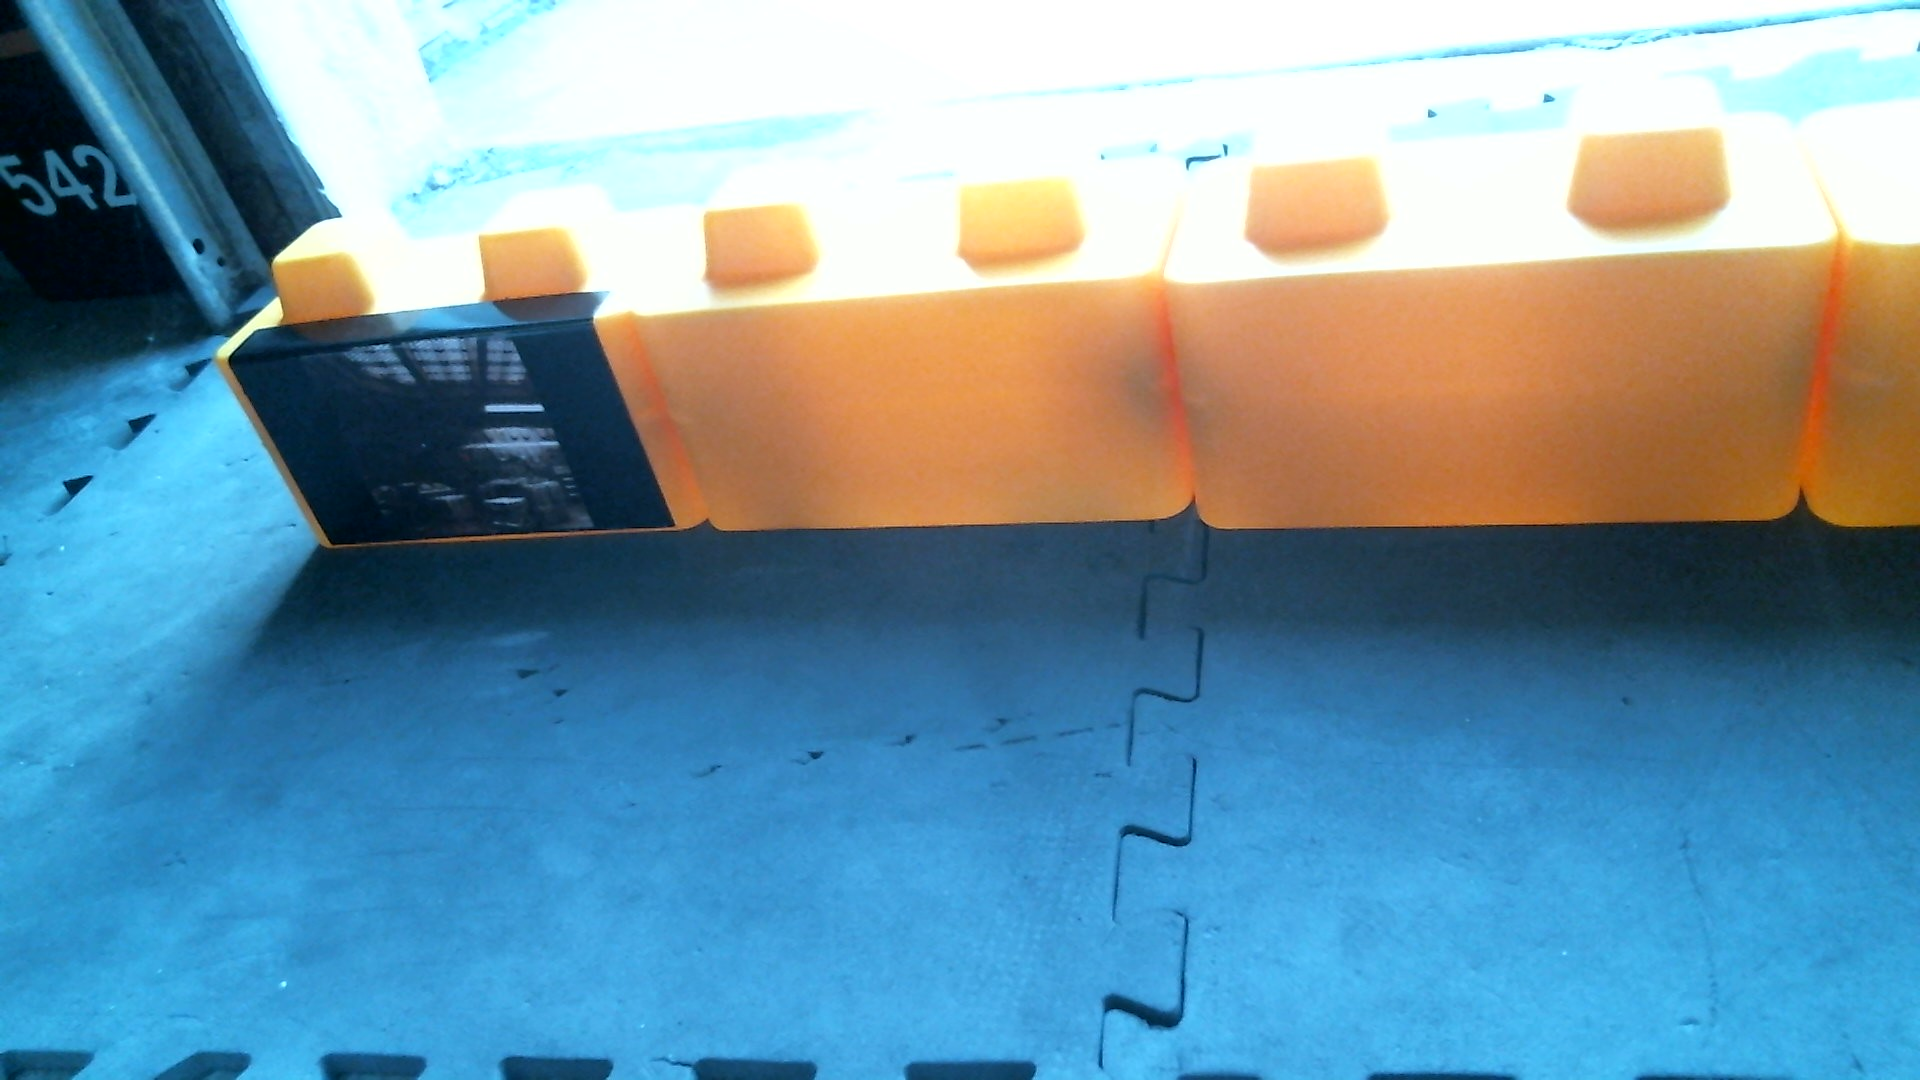left: (215, 71, 1919, 566)
